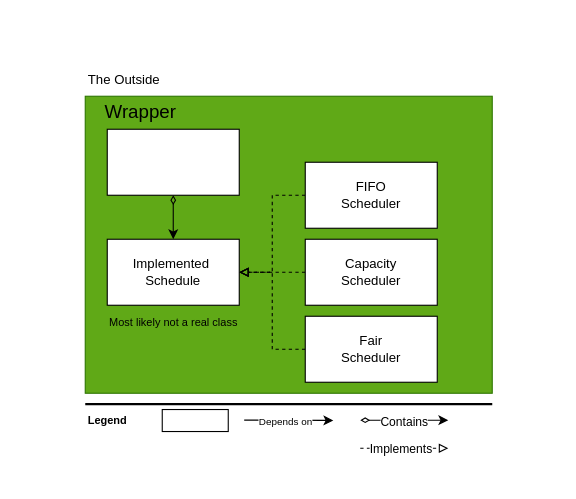
The diagram is 576 pixels wide and 499 high, and some of its shapes have lost their labels. Here are the shapes that lost their labels. From the top down, the centre of each, then its label:
At point (172, 161): "Real Scheduler".
At point (194, 420): "Subsystem".
